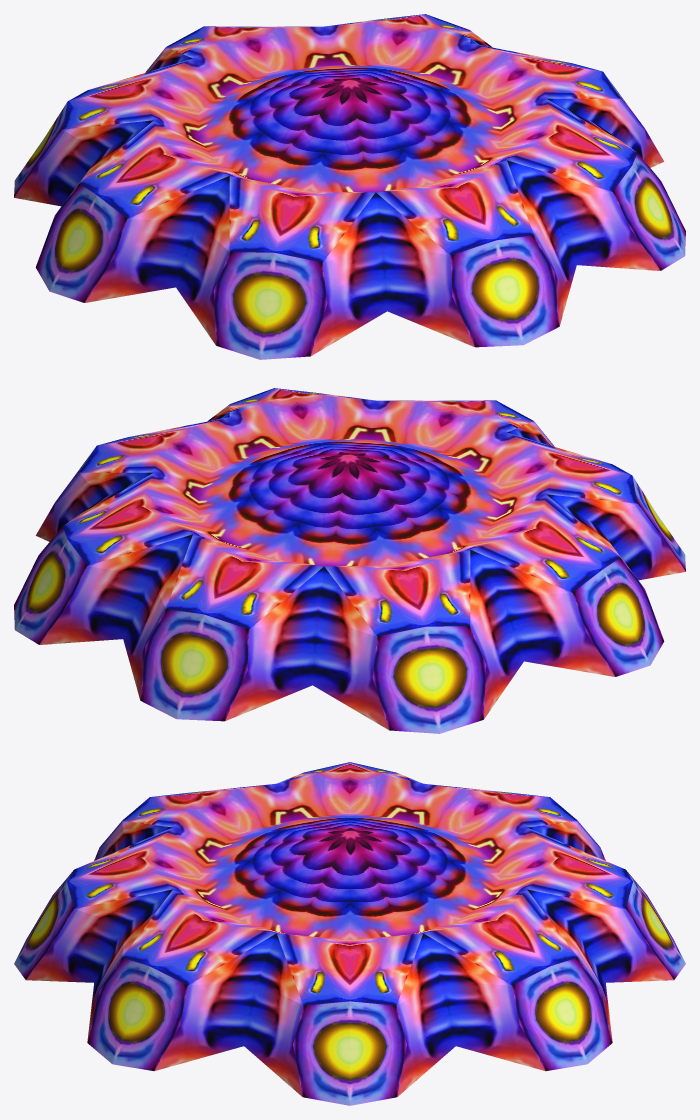
File: ufo-03.fbx
3 renders of one model, top to bottom at view 1: azimuth 30°, elevation 25°; view 2: azimuth 150°, elevation 25°; view 3: azimuth 270°, elevation 25°, orthographic. The views are drawn at different scales.
Parts seen in each view (by area): view 1: ufo-03; view 2: ufo-03; view 3: ufo-03.
Boxes of the visible parts, x1=… form: ufo-03: x1=14, y1=14, x2=685, y2=359; ufo-03: x1=14, y1=388, x2=685, y2=733; ufo-03: x1=14, y1=762, x2=685, y2=1105.
Size of the model in its own units: 85.49 by 20.48 by 85.49.
